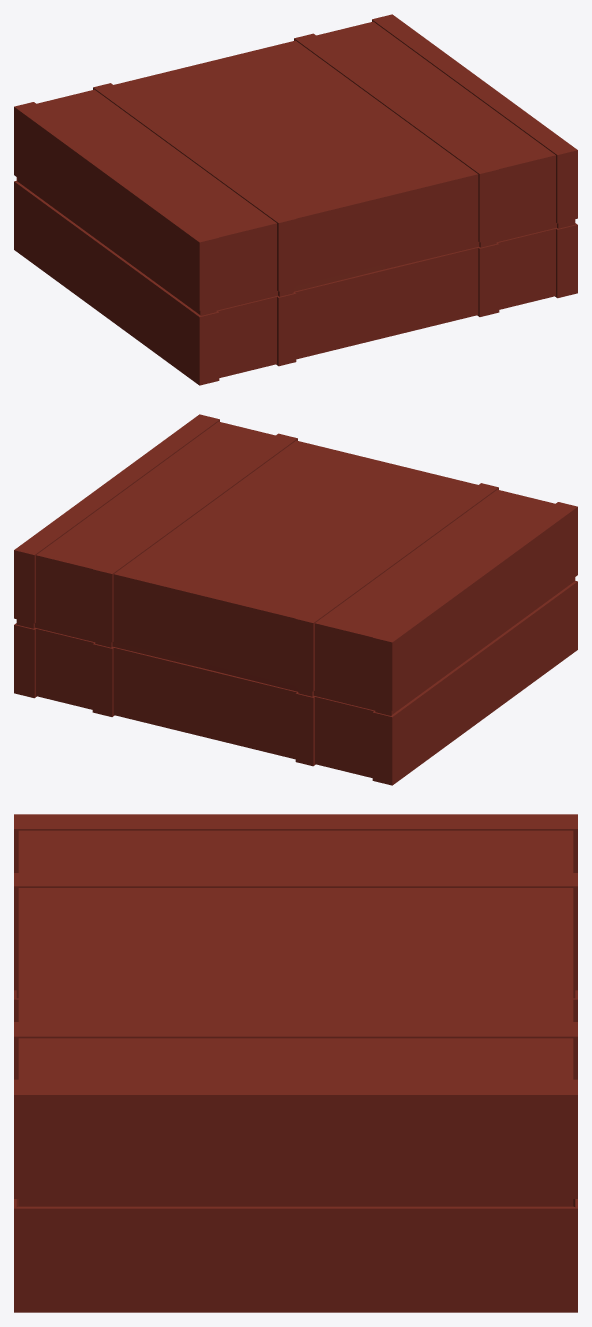
File: suitcase_2_v1.glb
3 views of the same model, one above another, from view 1: azimuth 30°, elevation 25°; view 2: azimuth 150°, elevation 25°; view 3: azimuth 270°, elevation 25° (orthographic). The views are drawn at different scales.
Parts seen in each view (by area): view 1: Cube034; view 2: Cube034; view 3: Cube034.
Boxes of the visible parts, left/top/right/bottom form: Cube034: left=14, top=14, right=577, bottom=385; Cube034: left=14, top=414, right=577, bottom=785; Cube034: left=14, top=814, right=577, bottom=1312.
Bounding box in the file's own units: 0.4938 × 0.1785 × 0.4194.
